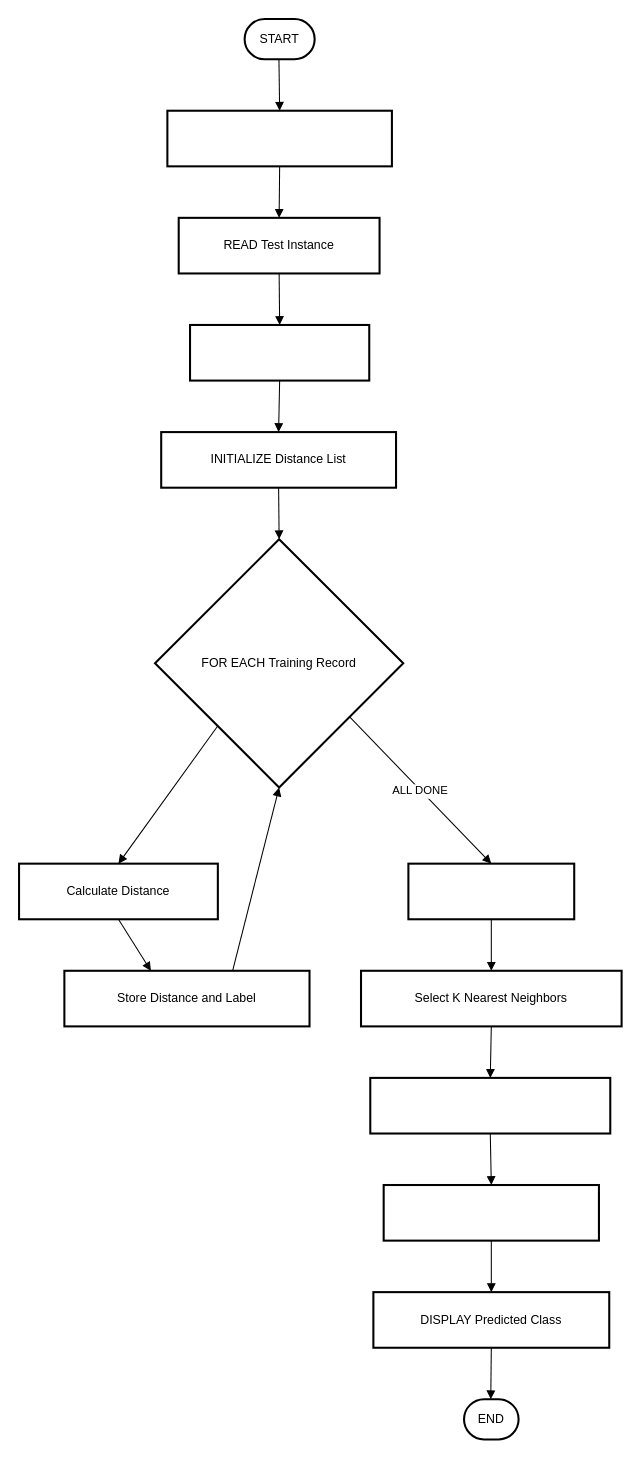
This 640x1457 diagram has some shape labels left out. The box of each missing label's shape, as (x1, y1, x2, y2) in pixels:
Count Class Frequencies: (369, 1076, 611, 1134)
READ Training Dataset: (166, 109, 392, 167)
READ Value of K: (188, 323, 370, 381)
Select Majority Class: (382, 1183, 599, 1241)
Sort Distances: (407, 862, 575, 920)
